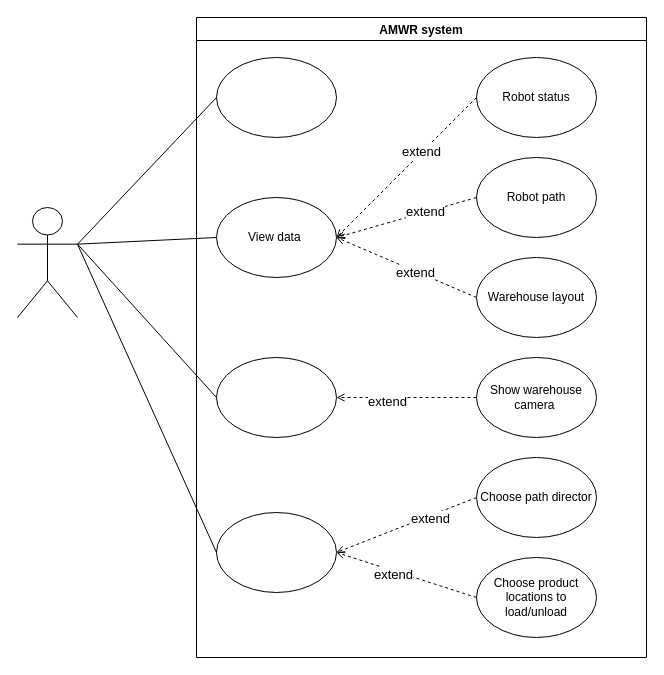
This 664x675 diagram has some shape labels left out. The shapes that lost their labels are listed below. From the top down, each one's box as (x1, y1, x2, y2) in pixels, then its label:
(216, 56, 336, 138): Connection check
(16, 206, 78, 318): Operator
(216, 356, 336, 438): Video real time
(216, 512, 336, 592): Control robot manually
